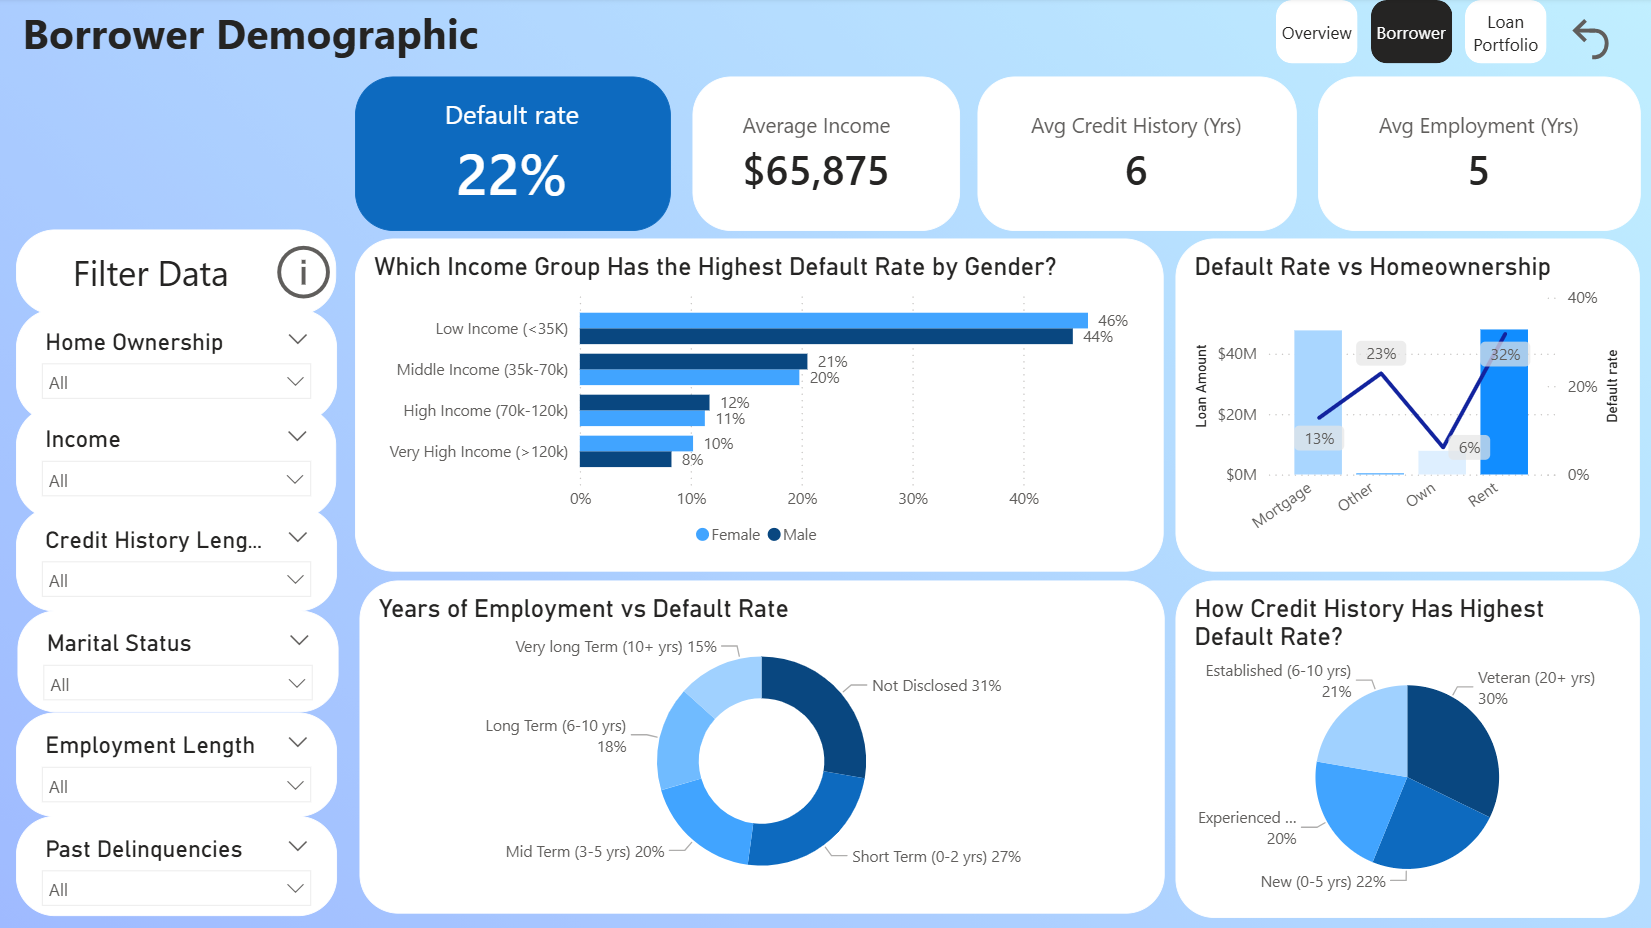

This screenshot's page, from the dashboard's own definition file:
{"tool":"powerbi","page":{"name":"Borrower","canvas":[1280,720],"ordinal":1},"visuals":[{"type":"clusteredBarChart","title":"Which Income Group Has the Highest Default Rate by Gender?","fields":{"Category":["Dim_Borrower.income_group"],"Y":["Fact_Loan.Default rate"],"Series":["Dim_Borrower.gender"]},"box":[276.3,187.1,624.7,257.6],"z":0},{"type":"donutChart","title":"Years of Employment vs  Default Rate","fields":{"Y":["Fact_Loan.Default rate"],"Category":["Dim_Borrower.emp_length_group"]},"box":[279.2,450.5,621.8,257.6],"z":1000},{"type":"pieChart","title":"How Credit History Has Highest Default Rate?","fields":{"Category":["Dim_Borrower.cred_hist_group"],"Y":["Fact_Loan.Default rate"]},"box":[910.1,450.2,358.8,260.4],"z":2000},{"type":"slicer","fields":{"Values":["Dim_Borrower.income_group"]},"box":[14.4,316.6,247.6,86.4],"z":3000},{"type":"slicer","fields":{"Values":["Dim_Borrower.home_ownership"]},"box":[13.9,241,248,87.3],"z":4000},{"type":"slicer","fields":{"Values":["Dim_Borrower.cred_hist_group"]},"box":[13.9,393.4,248,80.3],"z":5000},{"type":"slicer","fields":{"Values":["Dim_Borrower.marital_status"]},"box":[15.2,473.8,248,79],"z":6000},{"type":"slicer","fields":{"Values":["Dim_Borrower.emp_length_group"]},"box":[13.9,552.7,248,80.3],"z":7000},{"type":"cardVisual","fields":{"Data":["Avg(Dim_Borrower.emp_length)"]},"box":[1019.6,61,249.4,119.1],"z":8000},{"type":"cardVisual","fields":{"Data":["Avg(Dim_Borrower.cred_hist_length)"]},"box":[756.4,61,246.6,119.1],"z":9000},{"type":"cardVisual","fields":{"Data":["Avg(Dim_Borrower.income)"]},"box":[536.1,61,206.4,119.1],"z":10000},{"type":"pageNavigator","box":[987.7,2.8,211.9,49.9],"z":11000},{"type":"actionButton","box":[1209.4,11.1,59.6,41.6],"z":12000},{"type":"textbox","box":[14.4,179.9,247.6,66.2],"z":13000},{"type":"actionButton","box":[209.2,184.2,52.6,56.8],"z":14000},{"type":"cardVisual","fields":{"Data":["Fact_Loan.Default rate"]},"box":[275.7,61,243.8,119.1],"z":15000},{"type":"lineStackedColumnComboChart","title":"Default Rate vs Homeownership ","fields":{"Y":["Sum(Fact_Loan.loan_amount)"],"Category":["Dim_Borrower.home_ownership"],"Y2":["Fact_Loan.Default rate"]},"box":[909.6,187.1,358.4,257.6],"z":16000},{"type":"slicer","fields":{"Values":["Fact_Loan.past_delinquencies"]},"box":[13.9,633.1,248,77.6],"z":17000},{"type":"textbox","box":[13.9,0,414.2,81.7],"z":18000}]}

Visuals, with their boxes in screenshot pixels (x1, y1, x2, y2), scaled from the page's 1280x720 canvas onto the 1651x928 screenshot:
"Which Income Group Has the Highest Default Rate by Gender?" clusteredBarChart: pyautogui.locateOnScreen(356, 241, 1162, 573)
"Years of Employment vs  Default Rate" donutChart: pyautogui.locateOnScreen(360, 581, 1162, 913)
"How Credit History Has Highest Default Rate?" pieChart: pyautogui.locateOnScreen(1174, 580, 1637, 916)
slicer - Dim_Borrower.income_group: pyautogui.locateOnScreen(19, 408, 338, 519)
slicer - Dim_Borrower.home_ownership: pyautogui.locateOnScreen(18, 311, 338, 423)
slicer - Dim_Borrower.cred_hist_group: pyautogui.locateOnScreen(18, 507, 338, 611)
slicer - Dim_Borrower.marital_status: pyautogui.locateOnScreen(20, 611, 339, 712)
slicer - Dim_Borrower.emp_length_group: pyautogui.locateOnScreen(18, 712, 338, 816)
cardVisual - Avg(Dim_Borrower.emp_length): pyautogui.locateOnScreen(1315, 79, 1637, 232)
cardVisual - Avg(Dim_Borrower.cred_hist_length): pyautogui.locateOnScreen(976, 79, 1294, 232)
cardVisual - Avg(Dim_Borrower.income): pyautogui.locateOnScreen(691, 79, 958, 232)
pageNavigator: pyautogui.locateOnScreen(1274, 4, 1547, 68)
actionButton: pyautogui.locateOnScreen(1560, 14, 1637, 68)
textbox: pyautogui.locateOnScreen(19, 232, 338, 317)
actionButton: pyautogui.locateOnScreen(270, 237, 338, 311)
cardVisual - Fact_Loan.Default rate: pyautogui.locateOnScreen(356, 79, 670, 232)
"Default Rate vs Homeownership " lineStackedColumnComboChart: pyautogui.locateOnScreen(1173, 241, 1636, 573)
slicer - Fact_Loan.past_delinquencies: pyautogui.locateOnScreen(18, 816, 338, 916)
textbox: pyautogui.locateOnScreen(18, 0, 552, 105)
